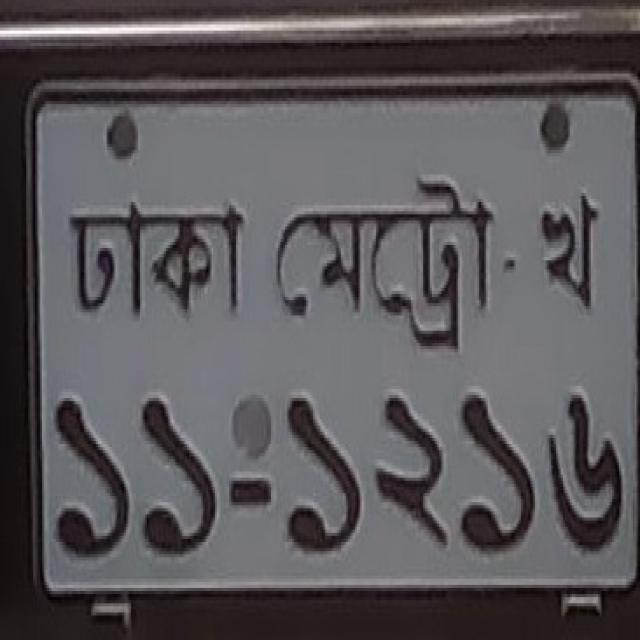numberplate: (20, 61, 637, 601)
